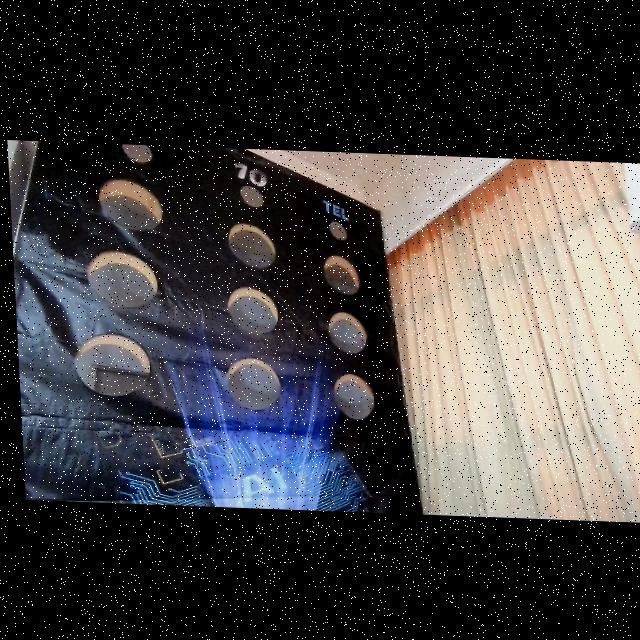hole: (74, 333, 153, 399), (87, 250, 159, 307), (99, 179, 163, 230), (228, 358, 282, 411), (229, 286, 279, 335), (228, 223, 276, 267), (335, 374, 375, 420), (327, 312, 366, 355), (322, 255, 360, 296), (123, 135, 152, 164), (240, 184, 264, 208), (330, 221, 347, 241)
